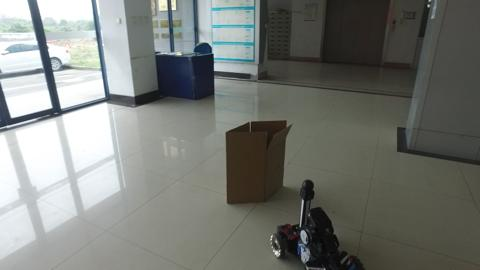box: (226, 117, 285, 204)
chariot: (272, 176, 367, 270)
